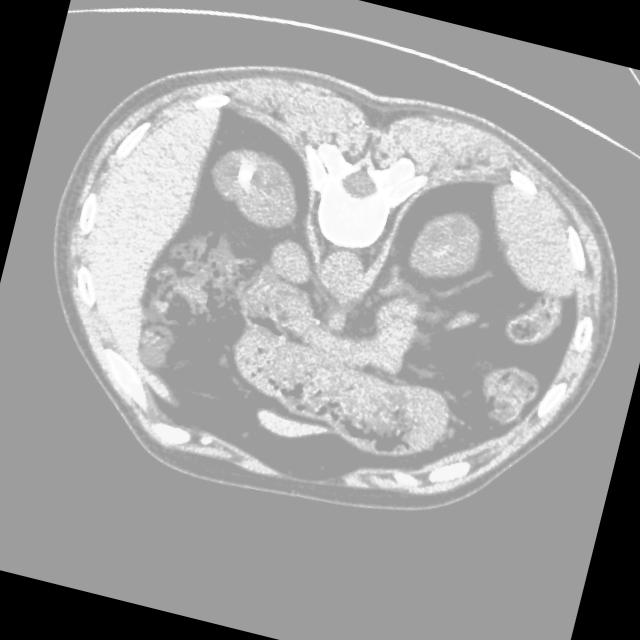STONE: (107, 101, 513, 426)
